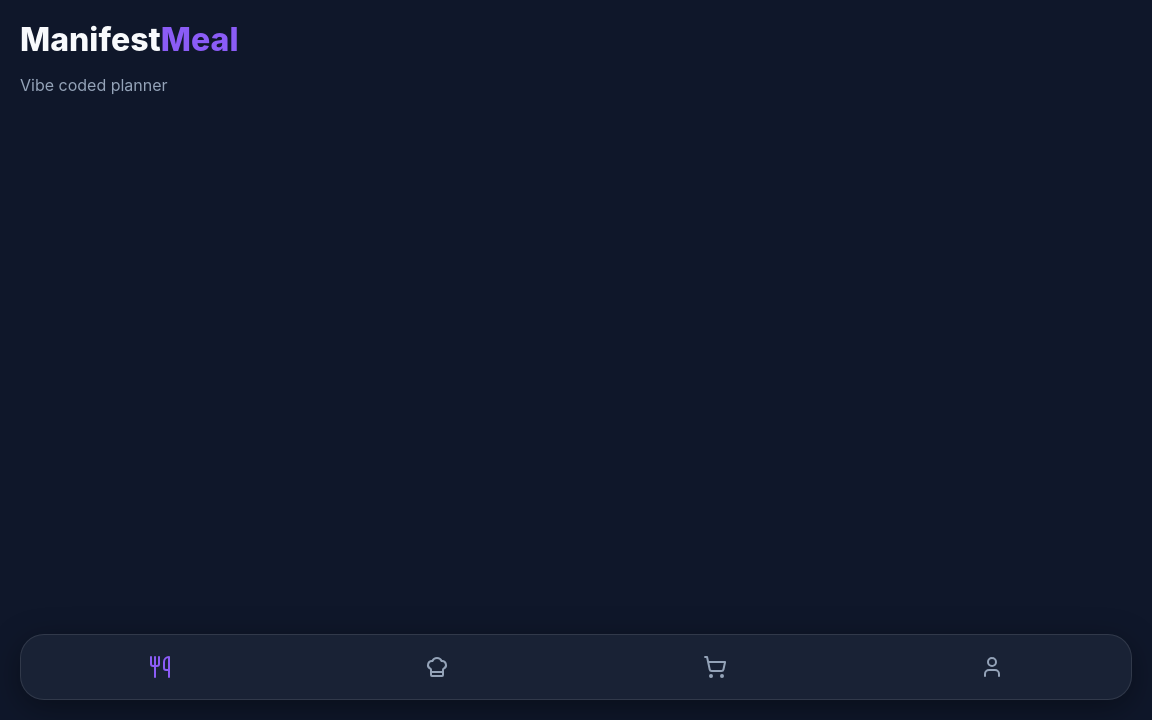
Test case: App Integration › navigates between tabs
Note: Click Profile
What coordinates should you click on to do the following:
click the button named "Profile"
I would click on:
 (992, 667)
Its box is [972,655,1012,679].
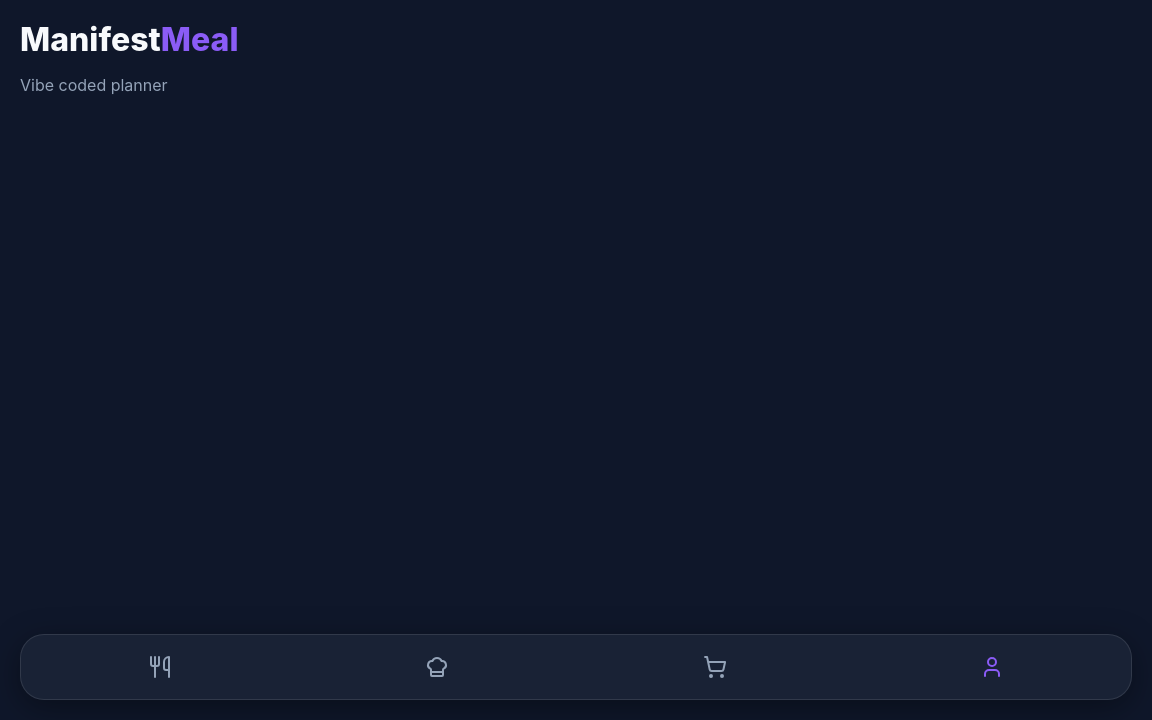
Note: Click Recipes
What coordinates should you click on to do the following:
click the button named "Recipes"
I would click on:
 (437, 667)
Its box is [417,655,457,679].
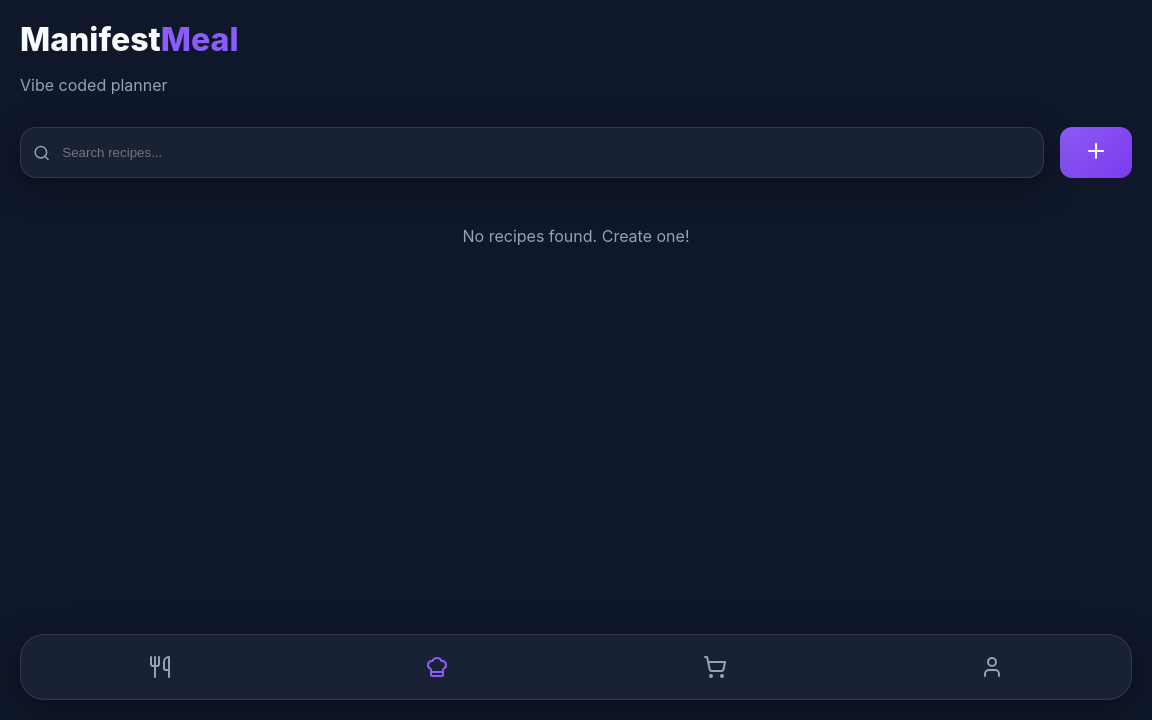
Check: the field with placeholder "Search recipes..." is shown, box [50,133,1031,172]
Note: Click Shop
What coordinates should you click on to do the following:
click the button named "Shop"
I would click on:
 (715, 667)
Its box is [695,655,735,679].
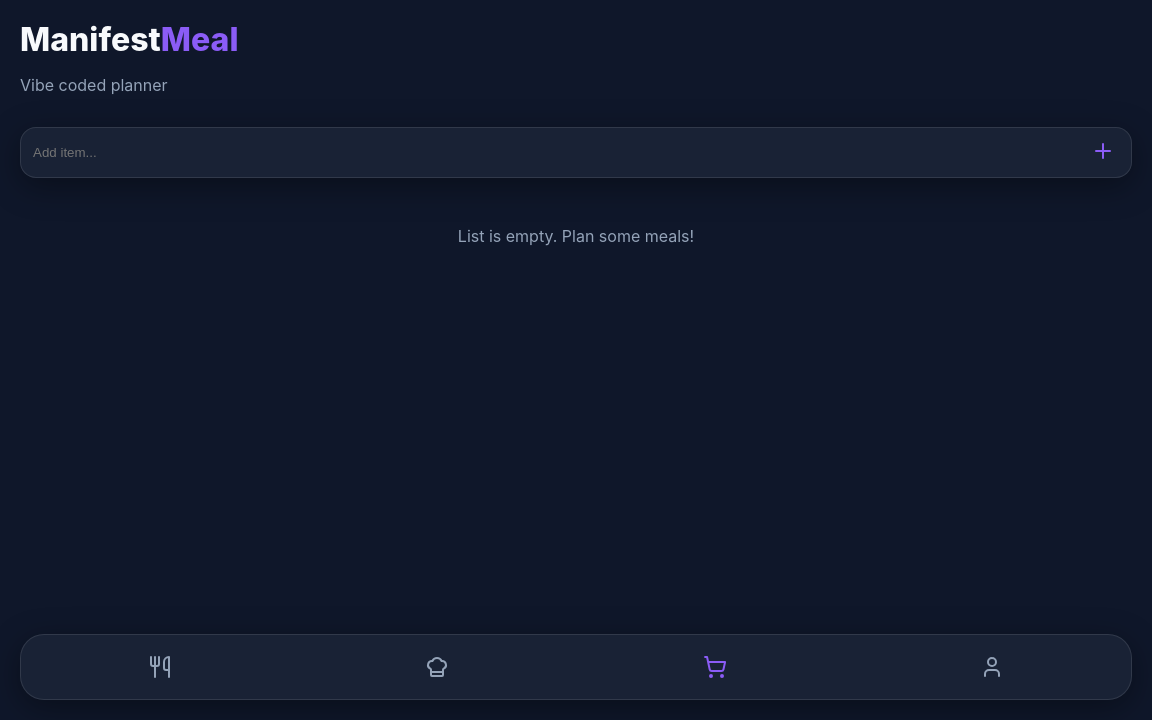
Check: the field with placeholder "Add item..." is shown, box [31,138,1069,167]
